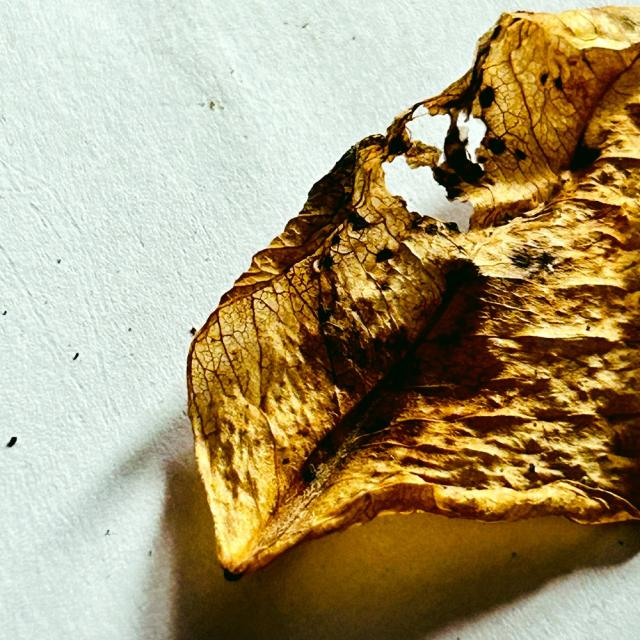DryLeaf_Lemon: (188, 8, 639, 578)
